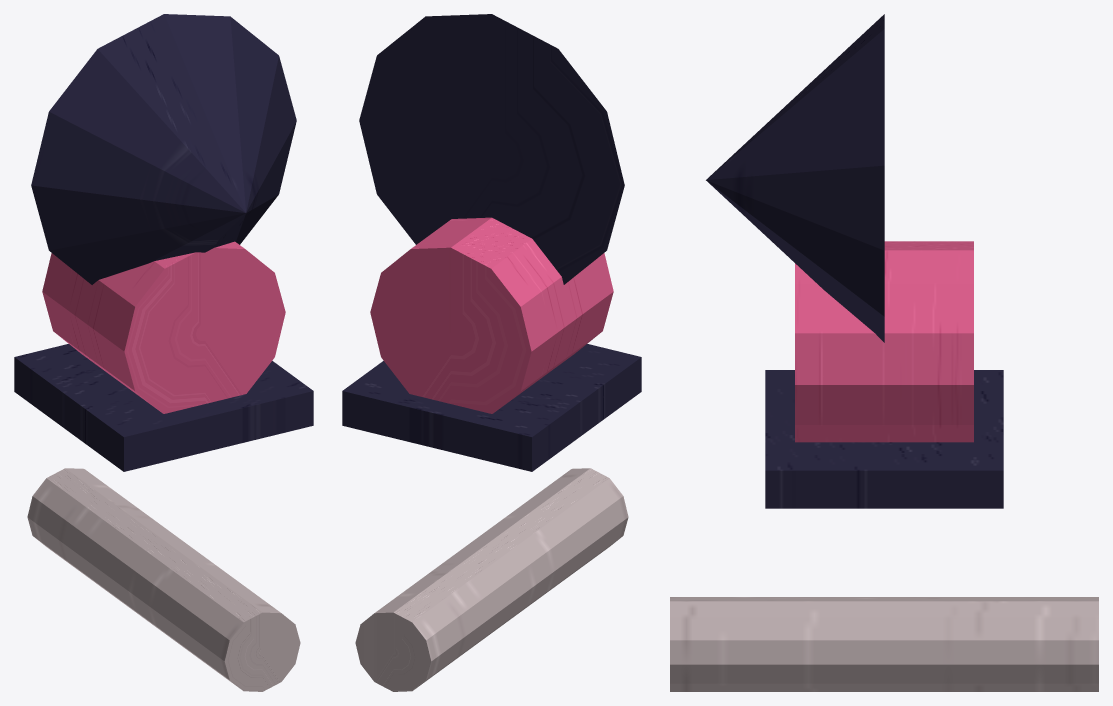
The model's file is spirit_lantern_lod0.glb.
3 views of the same model, side by side, from view 1: azimuth 30°, elevation 25°; view 2: azimuth 150°, elevation 25°; view 3: azimuth 270°, elevation 25° (orthographic). The views are drawn at different scales.
Parts seen in each view (by area): view 1: obsidian_3, ember_2, bone_0, obsidian_1; view 2: obsidian_3, ember_2, bone_0, obsidian_1; view 3: bone_0, ember_2, obsidian_3, obsidian_1.
Part boxes in pixels (<box>): obsidian_3: <box>31,14,296,284</box>; ember_2: <box>42,241,285,413</box>; bone_0: <box>27,468,300,691</box>; obsidian_1: <box>14,344,313,471</box>; obsidian_3: <box>359,14,624,284</box>; ember_2: <box>370,217,613,413</box>; bone_0: <box>355,468,628,691</box>; obsidian_1: <box>342,344,641,471</box>; bone_0: <box>670,597,1098,691</box>; ember_2: <box>795,241,973,442</box>; obsidian_3: <box>706,14,884,342</box>; obsidian_1: <box>765,370,1003,508</box>.
Size of the model in its own units: 2.8 by 6.1 by 3.6.
Materials: 3 (3 with a texture image).
